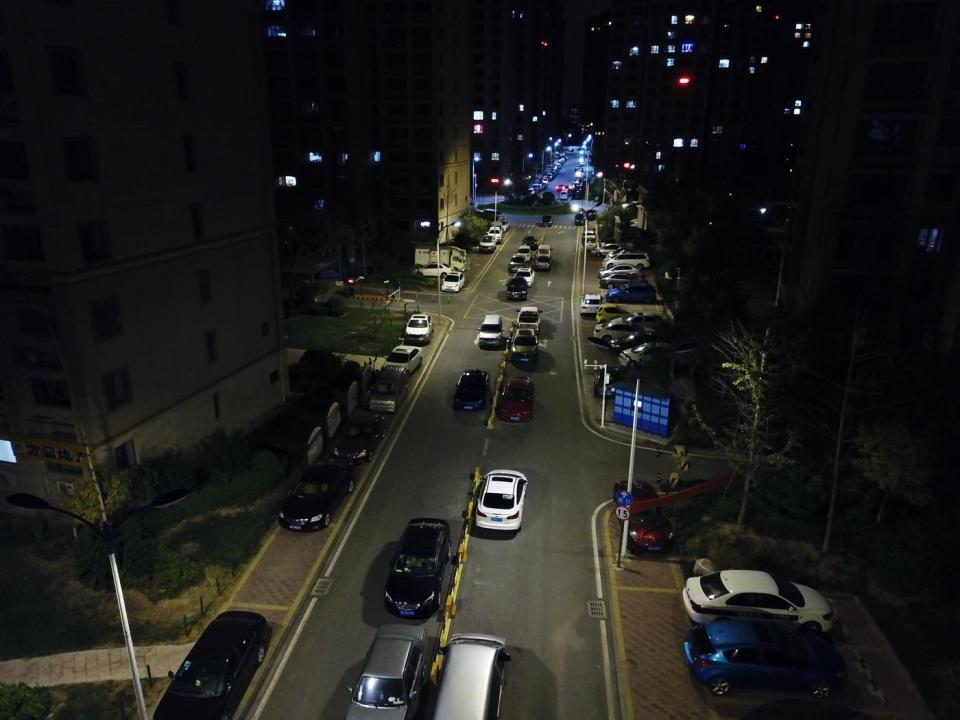car: (678, 615, 850, 697), (150, 605, 272, 720), (674, 567, 837, 639), (342, 625, 428, 719), (384, 515, 450, 616), (277, 457, 357, 531), (615, 477, 678, 551), (469, 466, 529, 532), (328, 411, 384, 462), (594, 320, 664, 355), (609, 329, 676, 362), (448, 365, 492, 414), (620, 341, 688, 372), (608, 314, 674, 342), (500, 376, 532, 426), (606, 279, 658, 307), (591, 361, 629, 399), (379, 346, 427, 374), (600, 251, 652, 274), (474, 313, 507, 349), (595, 303, 637, 326), (511, 327, 537, 364), (404, 313, 434, 344), (608, 245, 648, 268), (601, 272, 650, 290), (598, 265, 644, 283), (438, 270, 470, 292), (576, 291, 606, 314), (411, 260, 454, 276), (434, 241, 466, 262), (593, 243, 631, 259), (509, 267, 535, 290), (504, 277, 529, 300), (578, 229, 599, 250), (507, 253, 528, 274), (532, 252, 553, 270), (512, 245, 534, 262), (476, 235, 499, 251), (486, 226, 504, 244), (521, 232, 536, 252), (580, 226, 597, 242), (540, 213, 556, 228), (488, 220, 503, 235), (572, 212, 588, 224), (583, 209, 599, 219), (495, 219, 510, 229), (559, 189, 569, 200), (556, 184, 567, 191), (530, 187, 539, 195), (563, 188, 570, 195), (528, 188, 535, 195), (538, 183, 545, 190), (541, 182, 549, 188), (568, 147, 574, 153), (577, 146, 582, 150)
truck: (411, 245, 465, 267), (515, 303, 543, 331)
van: (432, 625, 510, 720), (370, 360, 412, 414), (483, 206, 506, 224), (538, 244, 552, 264), (538, 176, 549, 186), (532, 184, 541, 192)
